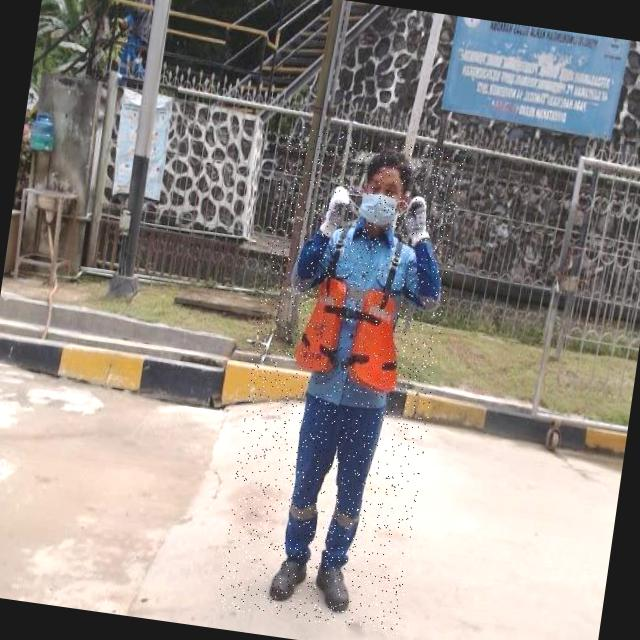boots: (264, 534, 314, 606), (310, 547, 358, 614)
gloves: (317, 181, 356, 238), (402, 193, 434, 246)
no-helmet: (352, 144, 421, 235)
vest: (292, 230, 416, 404)
